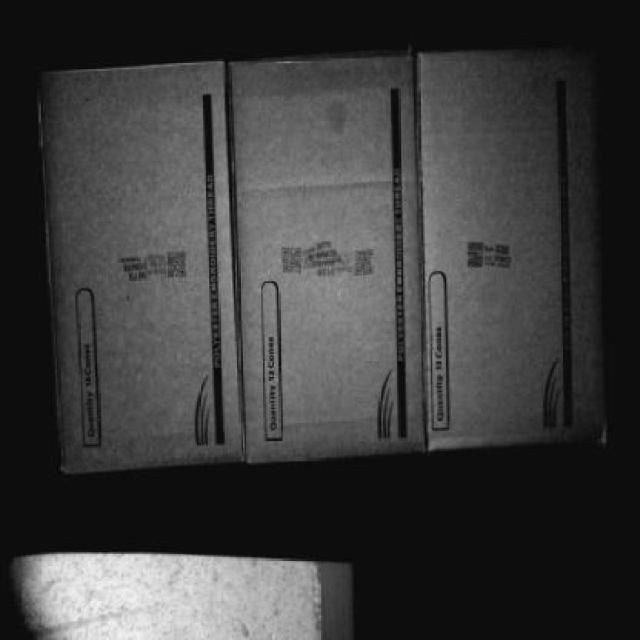cardboxes: (38, 64, 245, 462), (422, 51, 612, 435), (242, 60, 424, 451), (612, 432, 614, 439)
